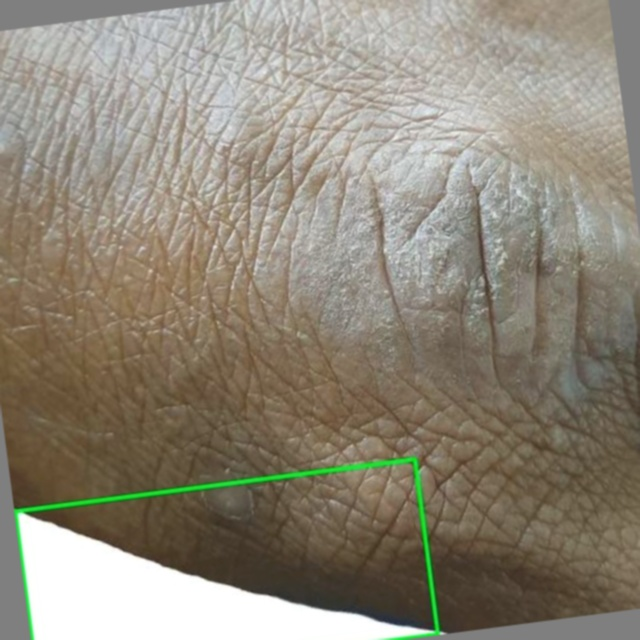Eczema: (15, 459, 437, 639)
